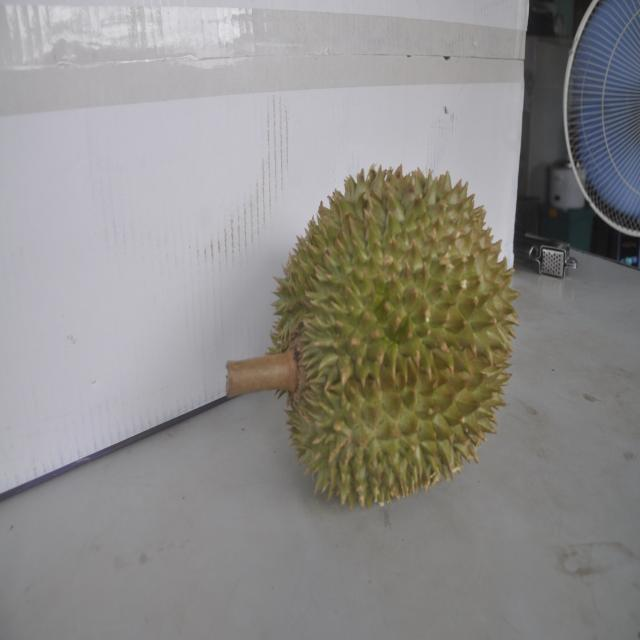mature: (264, 158, 512, 506)
